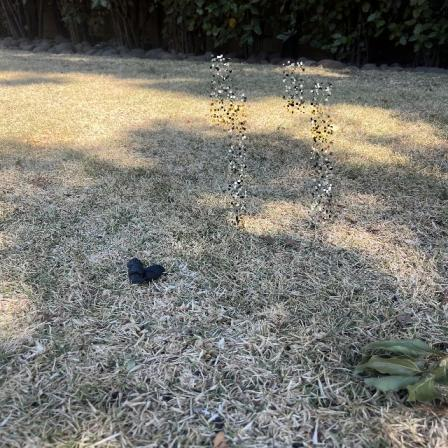dog-poop: (123, 256, 173, 294)
